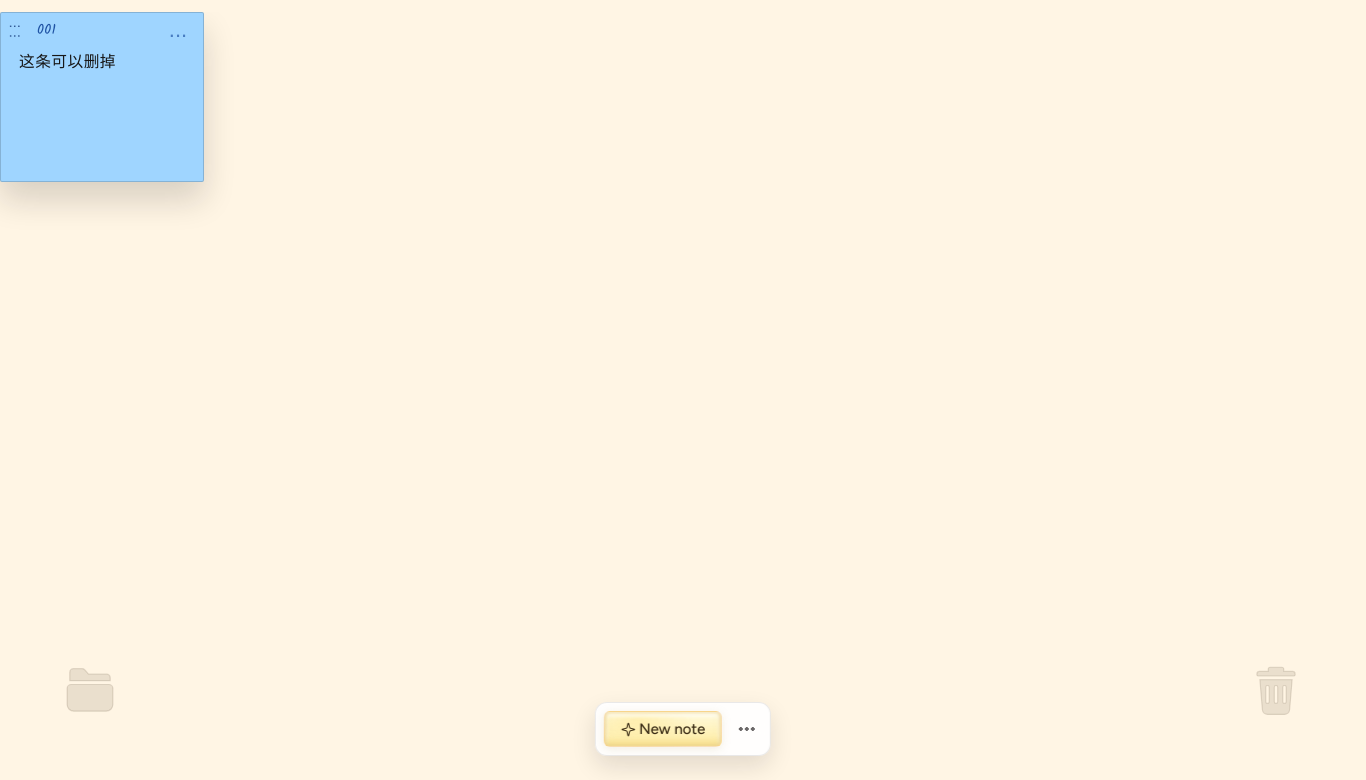
Scenario: LocalNotes › deletes a stored note from the page and localStorage
Expected: the text "这条可以删掉" is shown, [19,53,116,70]
Click the button named "More actions: 这条可以删掉" at (178, 30), box [163,18,193,42]
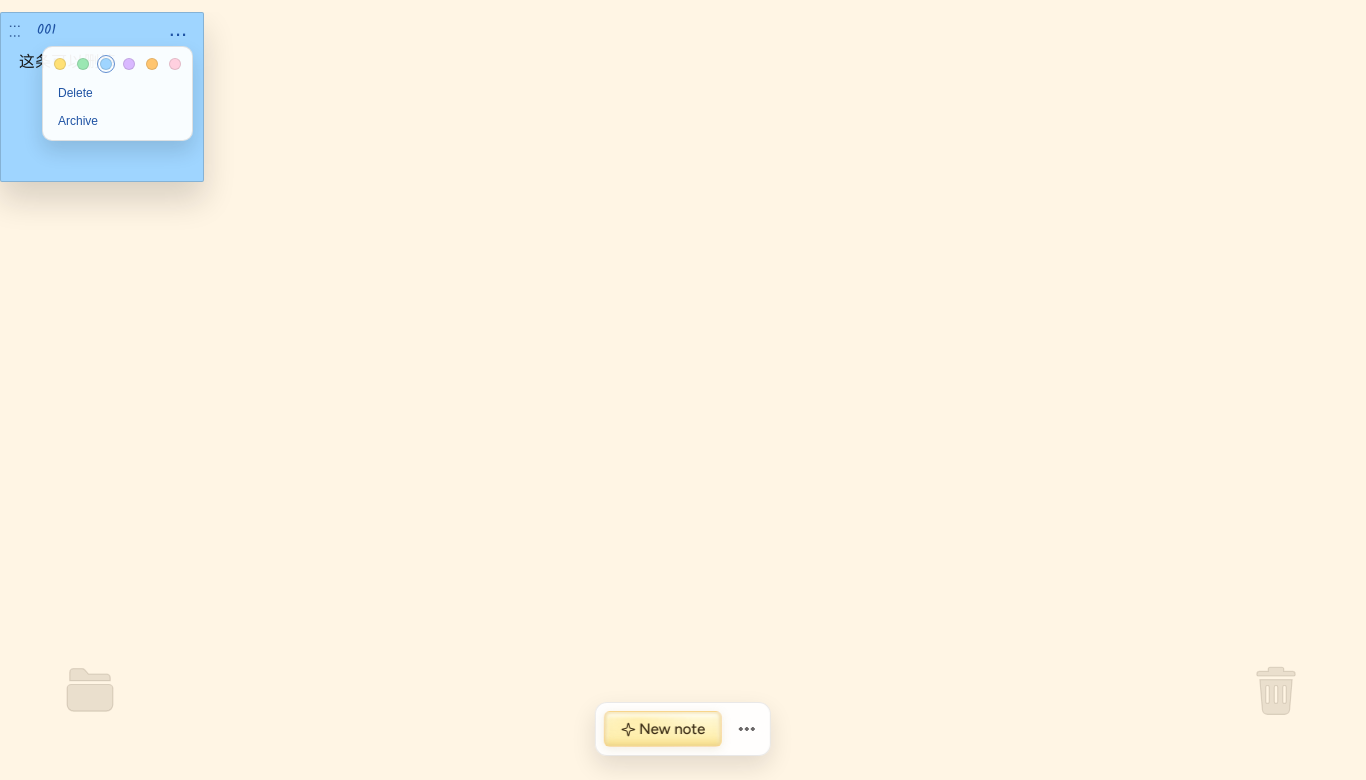
Click the button with aria-label "Delete note: 这条可以删掉" at (118, 93), box [48,79,187,107]
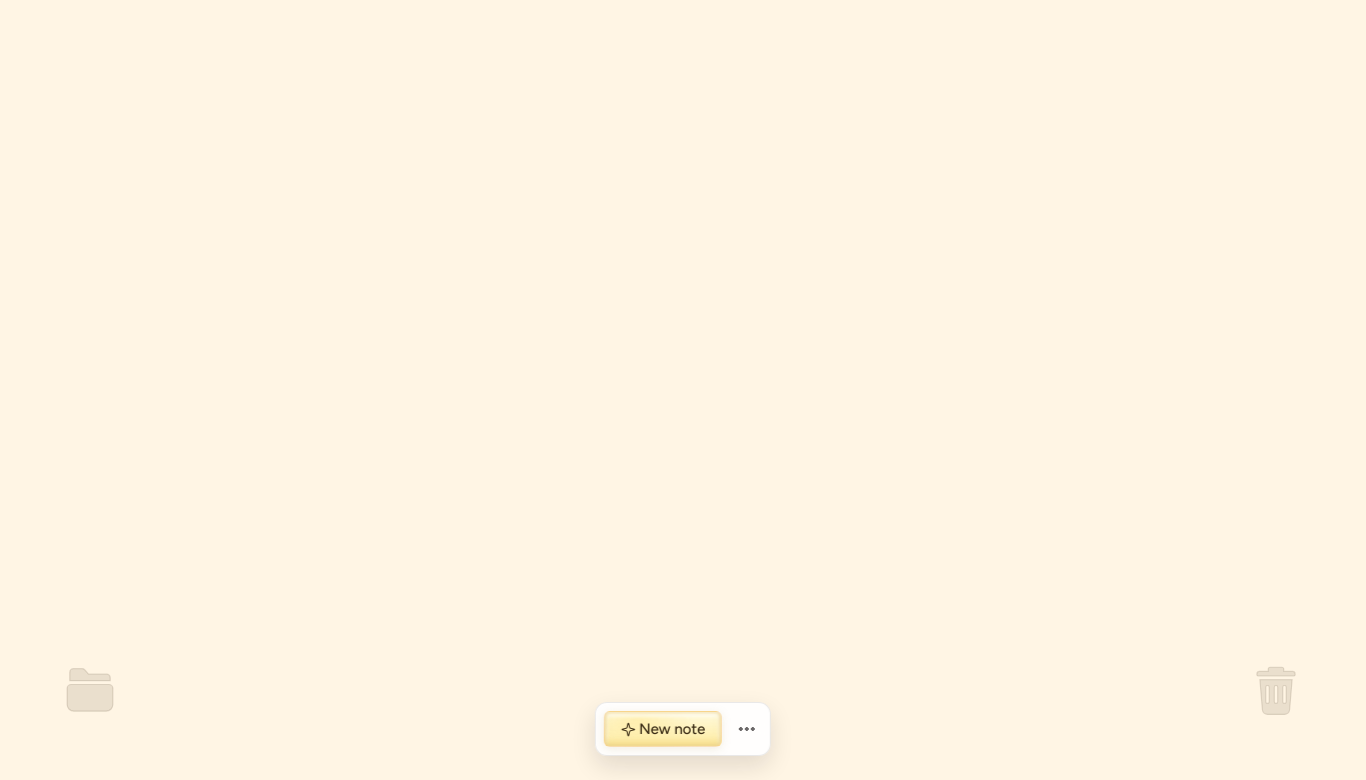
Expected: the button "这条可以删掉" is gone
